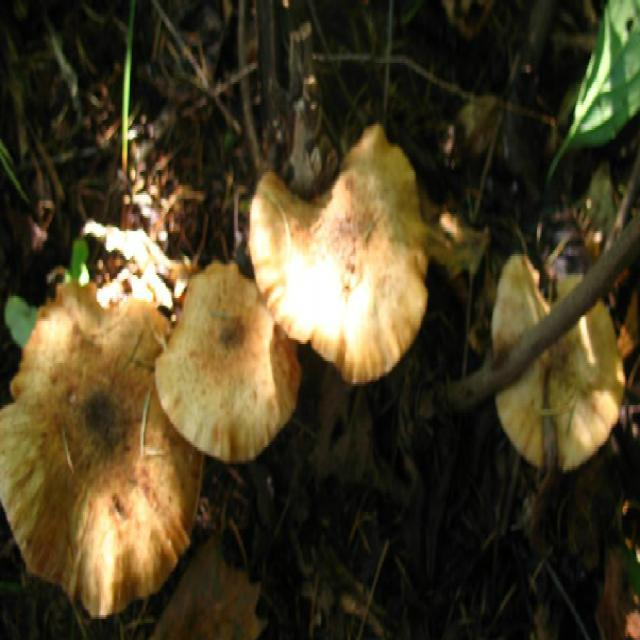Armillaria mellea: (1, 286, 203, 617), (248, 126, 430, 382), (155, 261, 303, 464), (493, 253, 620, 475)
